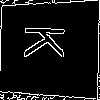K: (25, 24, 75, 59)
